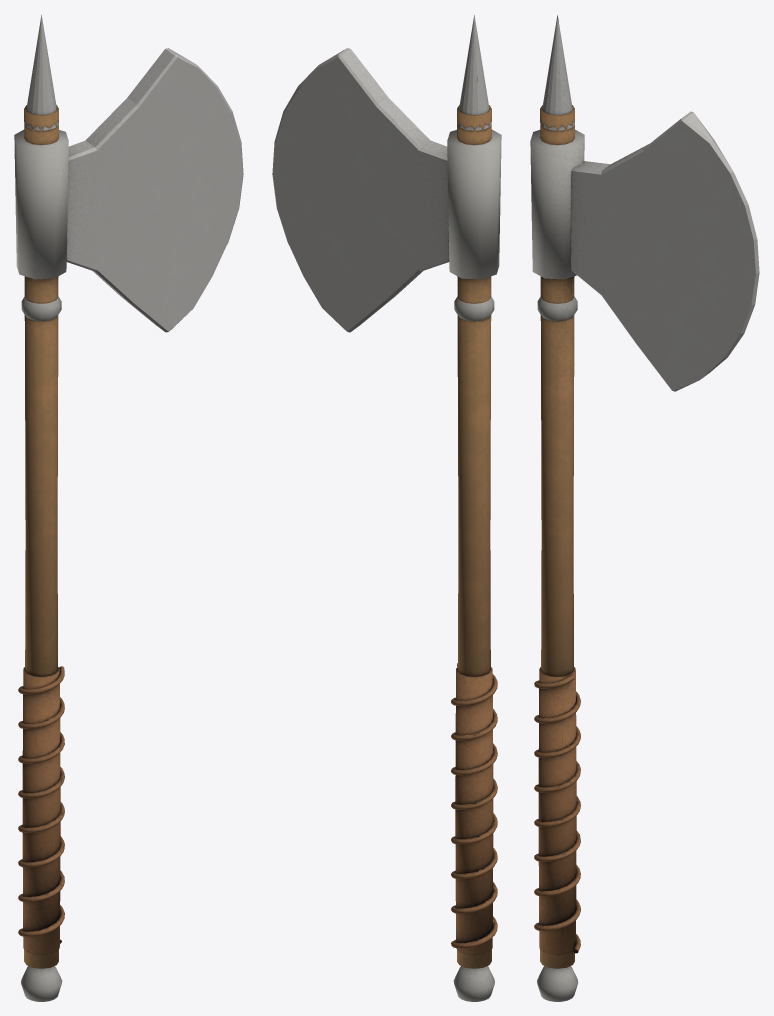
File: arma_machado_guerra_comum.glb
3 views of the same model, side by side, from view 1: azimuth 30°, elevation 25°; view 2: azimuth 150°, elevation 25°; view 3: azimuth 330°, elevation 25° (orthographic).
Parts seen in each view (by area): view 1: arma_machado_guerra_comum; view 2: arma_machado_guerra_comum; view 3: arma_machado_guerra_comum.
Boxes of the visible parts, x1,y1,x2,y2 form: arma_machado_guerra_comum: (14, 15, 243, 1001); arma_machado_guerra_comum: (272, 15, 501, 1001); arma_machado_guerra_comum: (530, 15, 759, 1001).
Bounding box in the file's own units: 0.3251 × 1.35 × 0.07.
1 material, 1 textured.
